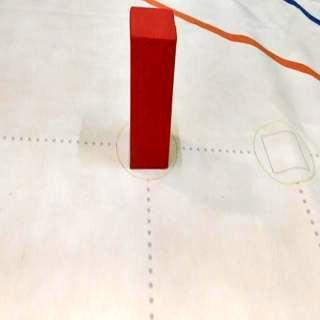redbox: (128, 4, 178, 170)
